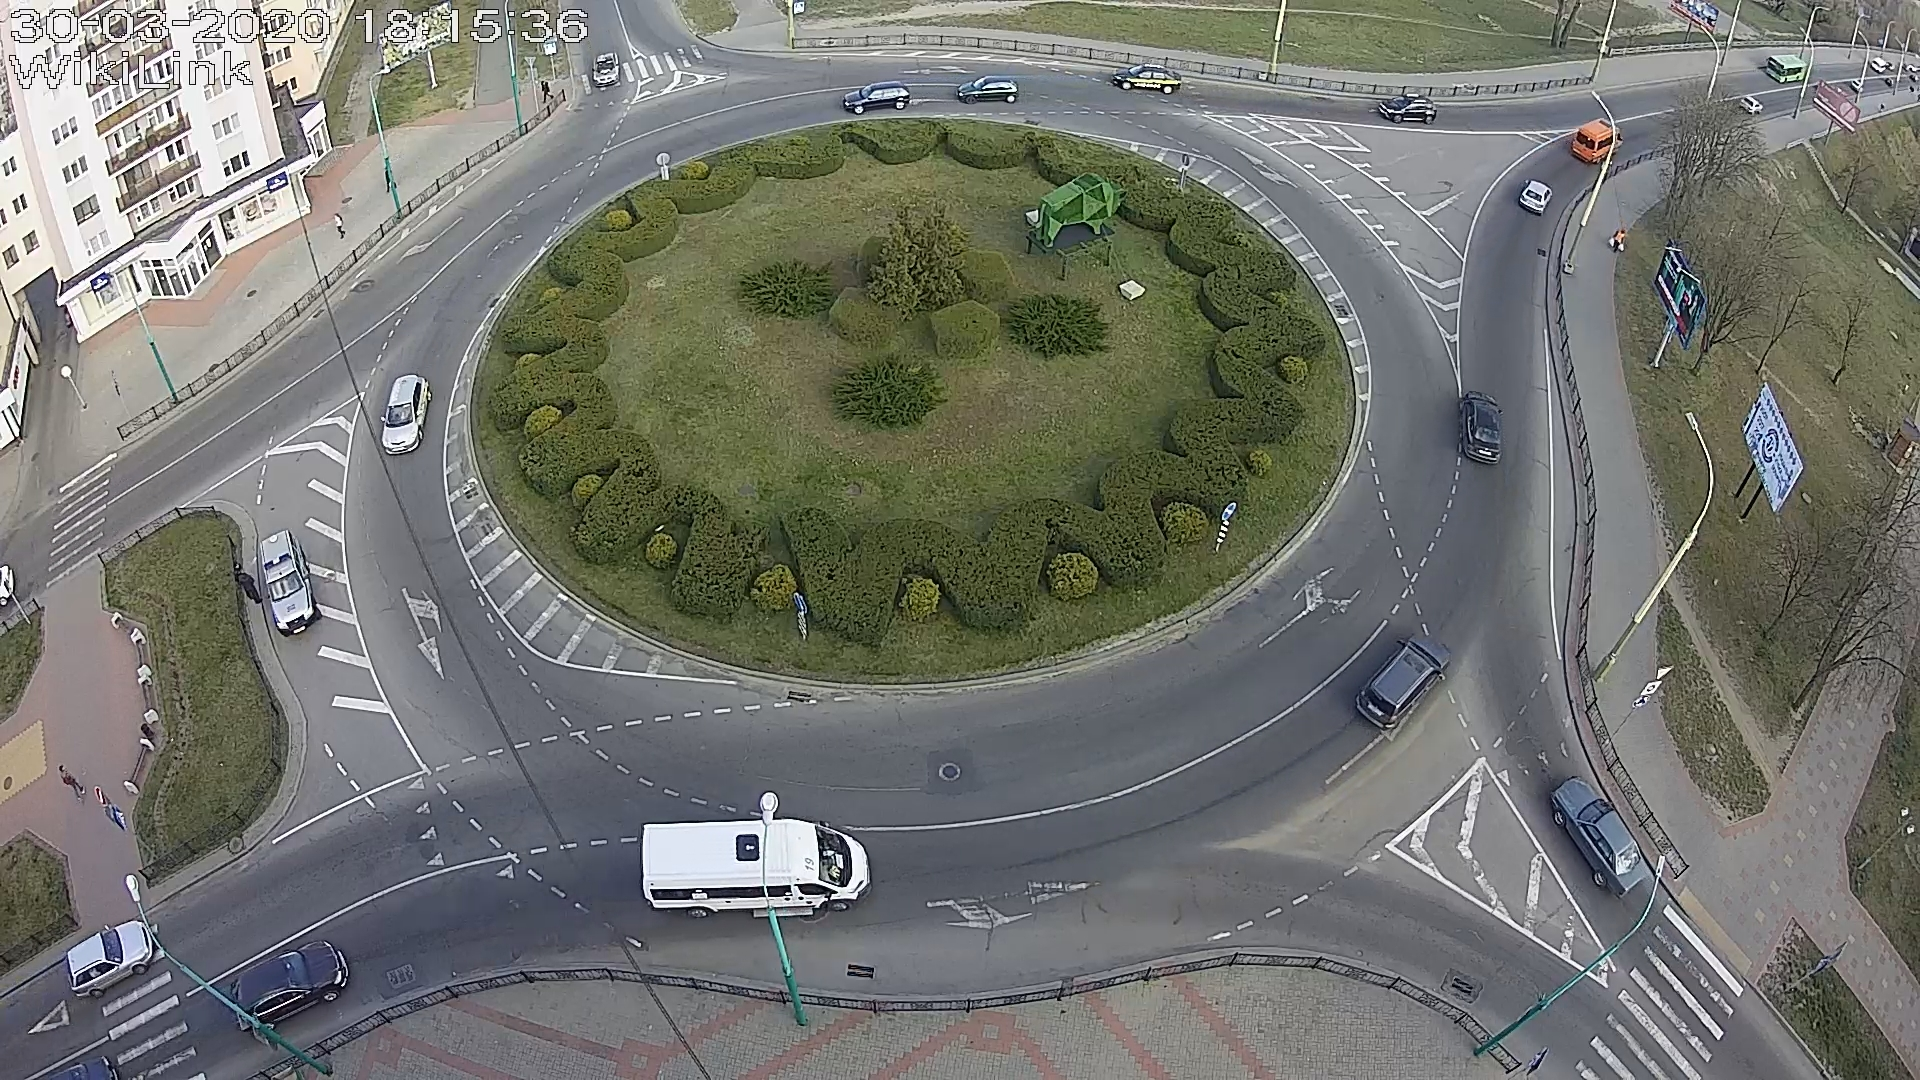car: (642, 818, 872, 918), (1549, 775, 1652, 899), (229, 940, 349, 1034), (1356, 632, 1452, 731), (65, 920, 153, 1000), (260, 529, 323, 637), (380, 375, 433, 455), (1457, 392, 1505, 465), (1571, 117, 1623, 164), (843, 80, 911, 115), (1112, 63, 1182, 95), (956, 75, 1021, 105), (1378, 94, 1437, 124), (1519, 178, 1552, 215), (592, 50, 620, 88)
